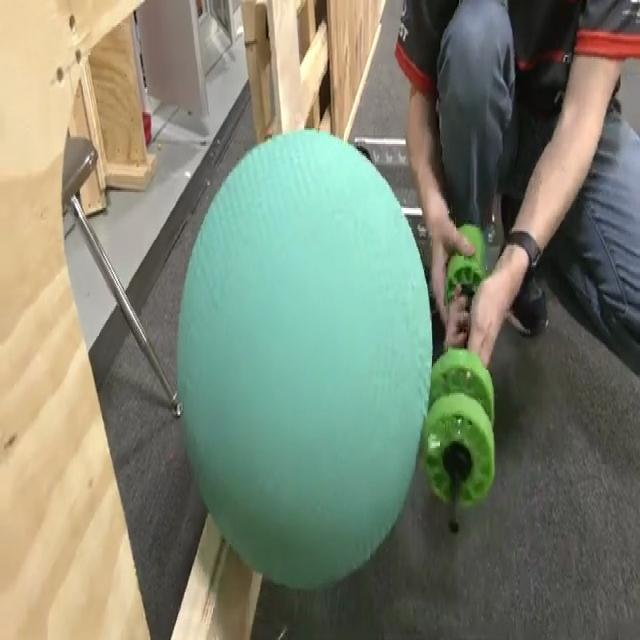Algae: (175, 124, 433, 590)
